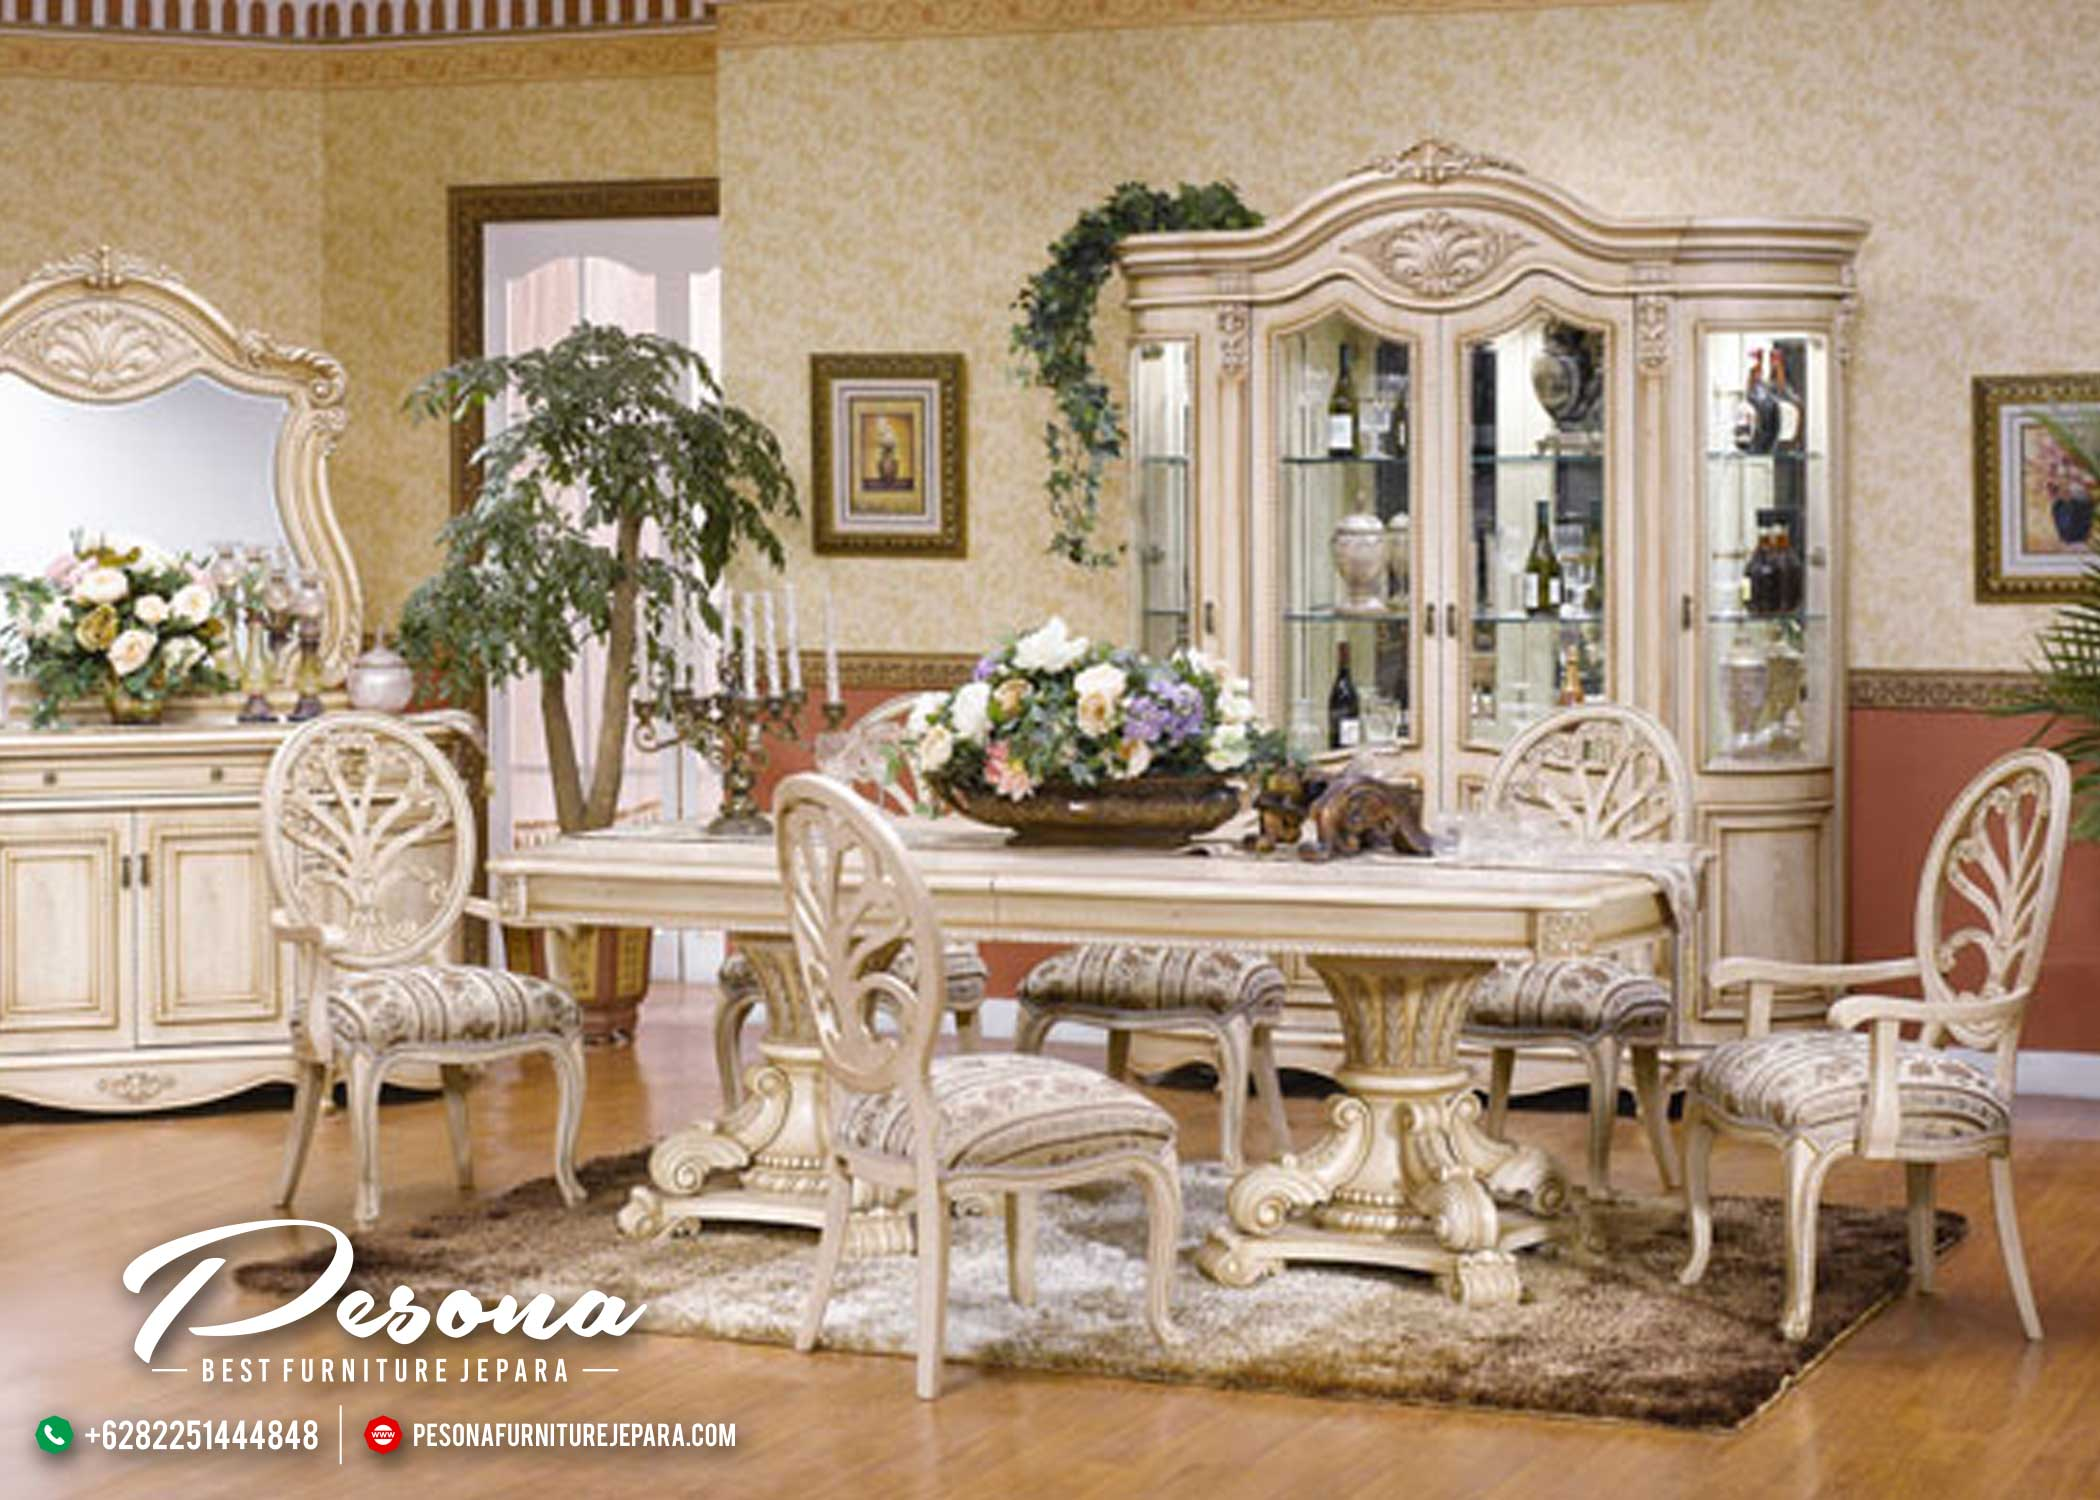Carving Chair: (737, 769, 1206, 1419), (1723, 755, 2077, 1364), (230, 687, 622, 1222)
